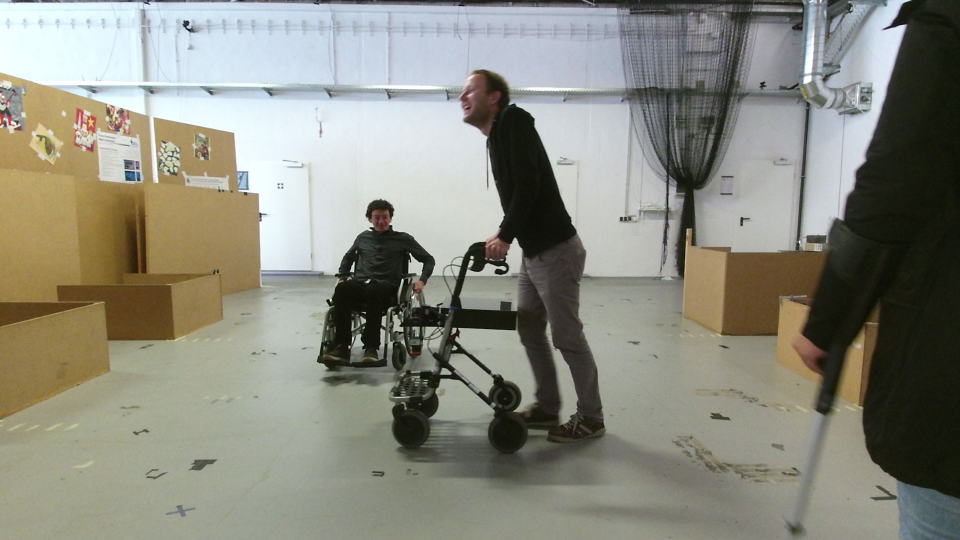wheelchair: (314, 196, 440, 372)
